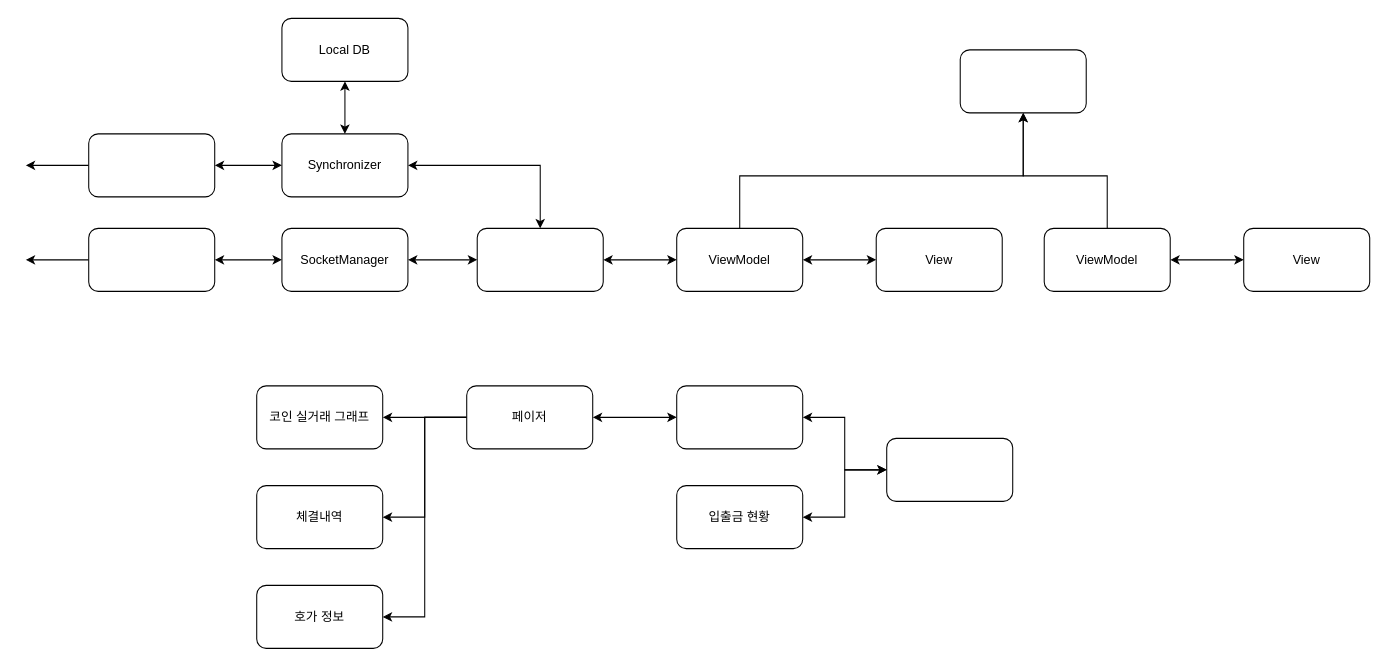
The diagram is 1388 pixels wide and 667 high, and some of its shapes have lost their labels. The centre of each missing label's shape, as x and y in pixels:
"Coordinator" goes at (1022,81).
"Network - Rest" goes at (151,165).
"Network - WebSocket" goes at (151,259).
"Repository" goes at (539,259).
"코인 목록" goes at (739,417).
"탭 바" goes at (949,469).
